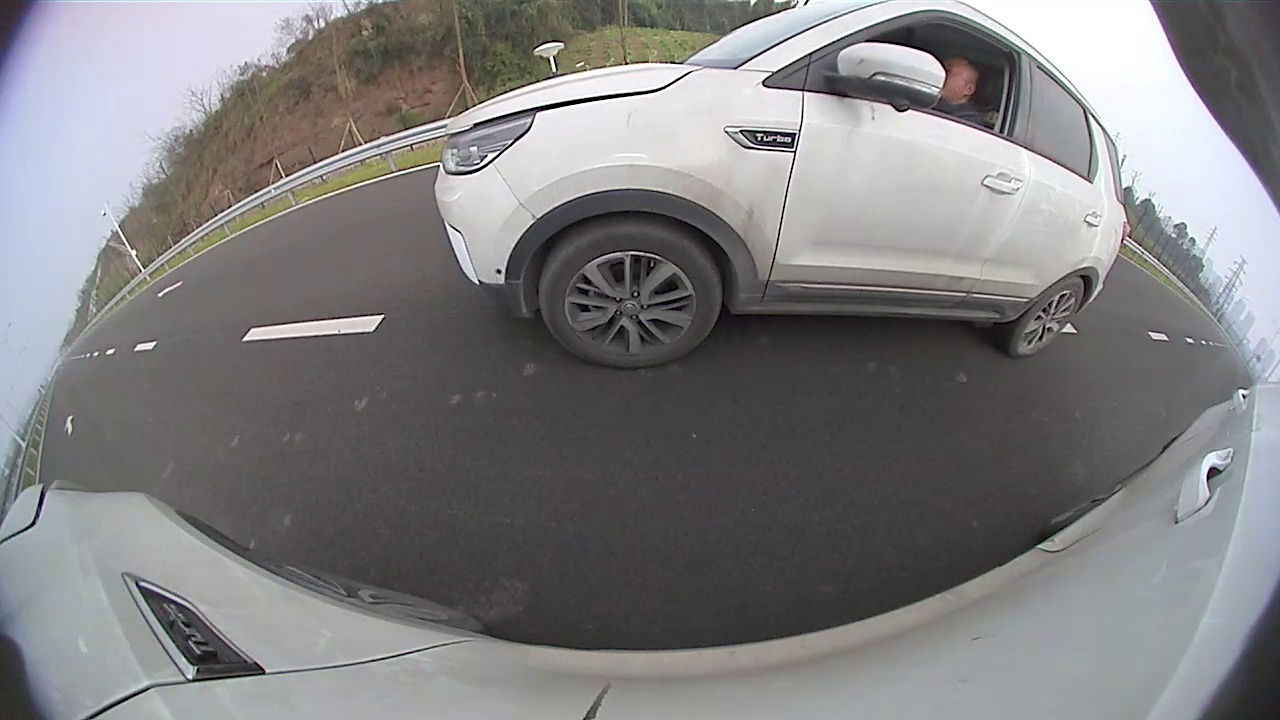car: (432, 1, 1129, 368)
front: (541, 225, 722, 368)
rear: (1006, 274, 1084, 358)
